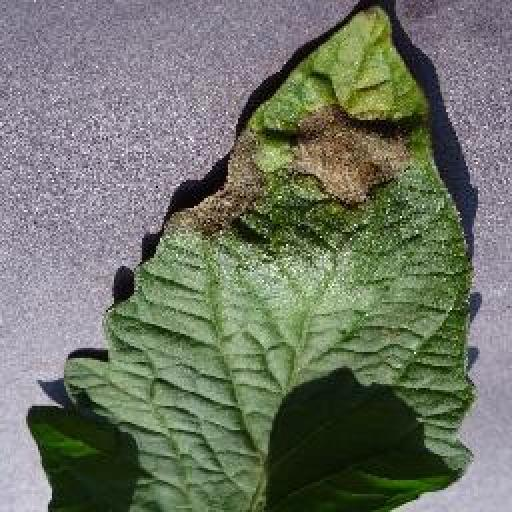Late Blight: (27, 0, 480, 512)
